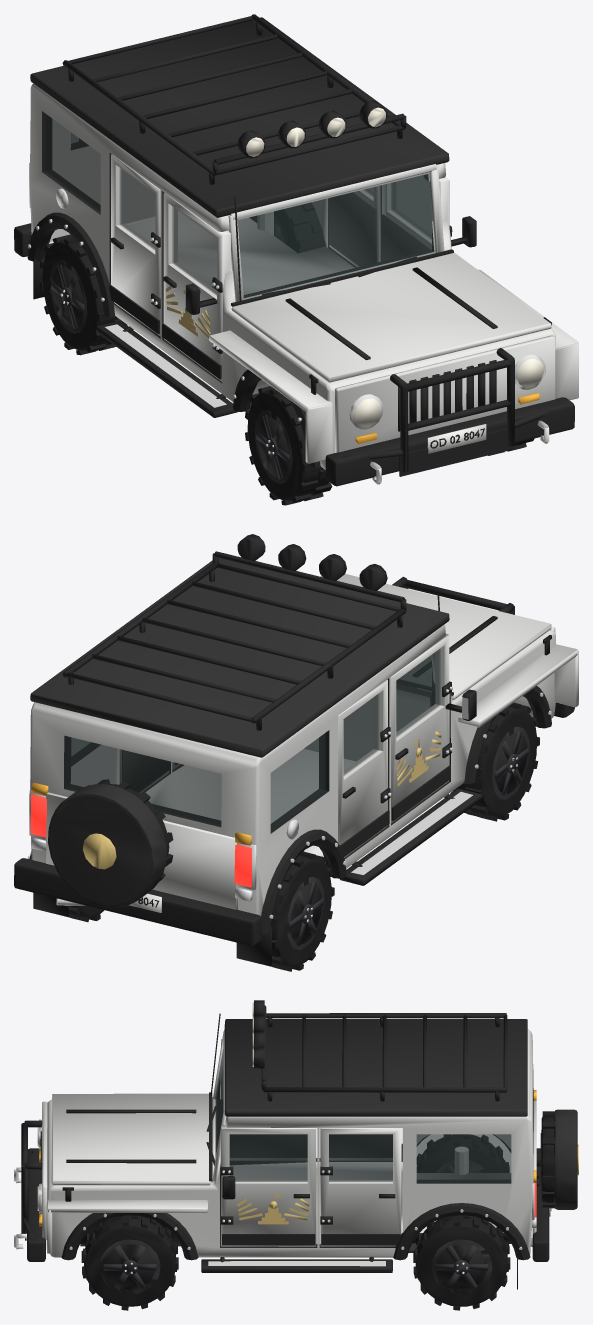
Rendered from Car_Model_LOD1.fbx.
3 views of the same model, one above another, from view 1: azimuth 30°, elevation 25°; view 2: azimuth 150°, elevation 25°; view 3: azimuth 270°, elevation 25° (orthographic). The views are drawn at different scales.
Parts seen in each view (by area): view 1: SM_Jeep_LOD1; view 2: SM_Jeep_LOD1; view 3: SM_Jeep_LOD1.
Boxes of the visible parts, left/top/right/bottom form: SM_Jeep_LOD1: left=14, top=14, right=578, bottom=505; SM_Jeep_LOD1: left=14, top=534, right=578, bottom=971; SM_Jeep_LOD1: left=14, top=1000, right=578, bottom=1310.
Size of the model in its own units: 2.25 by 2.22 by 4.77.
